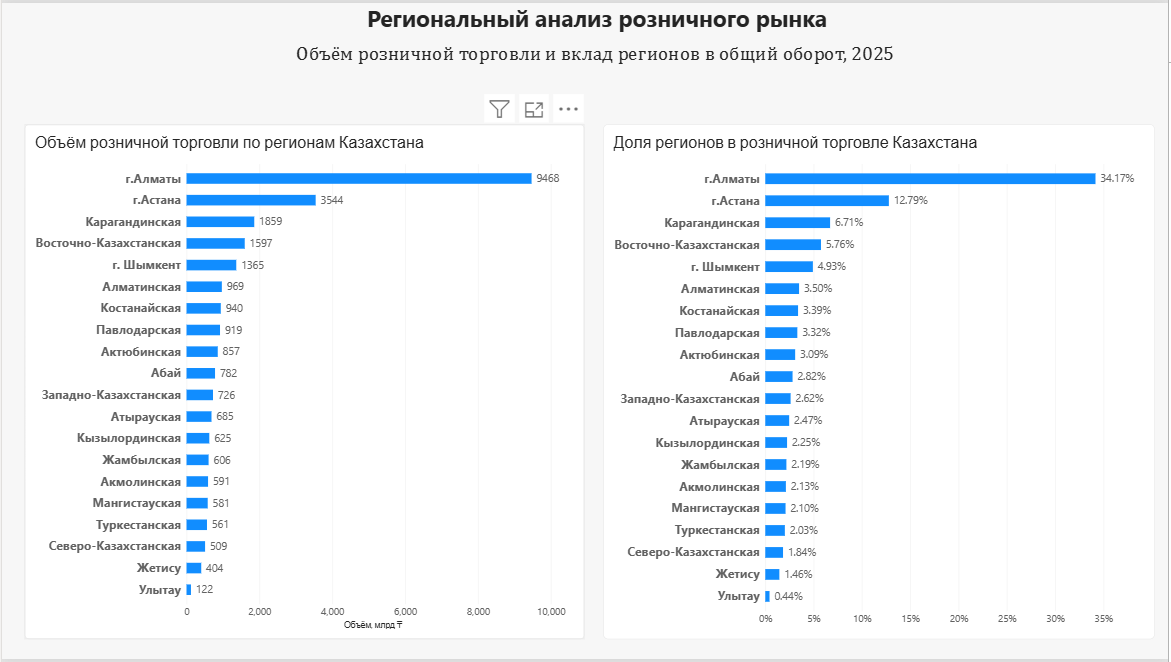

What the dashboard file says about the page in this screenshot:
{"tool":"powerbi","page":{"name":"Региональный анализ","canvas":[1920,1080],"ordinal":1},"visuals":[{"type":"clusteredBarChart","title":"Объём розничной торговли по регионам Казахстана","fields":{"Category":["Розничная торговля по регионам.Регион"],"Y":["Розничная торговля по регионам.Объём, млрд ₸"]},"box":[37,199.7,922.1,848],"z":0},{"type":"clusteredBarChart","title":"Доля регионов в розничной торговле Казахстана","fields":{"Category":["Розничная торговля по регионам.Регион"],"Y":["Розничная торговля по регионам.Доля региона"]},"box":[990.1,199.7,907.7,848],"z":1000},{"type":"textbox","box":[601,0,786.3,70],"z":1001},{"type":"textbox","box":[483.7,63.8,1000.3,47.3],"z":1002}]}

Visuals, with their boxes in screenshot pixels (x1, y1, x2, y2), scaled from the page's 1920x1080 canvas onto the 1171x662 screenshot:
"Объём розничной торговли по регионам Казахстана" clusteredBarChart: rect(23, 122, 585, 642)
"Доля регионов в розничной торговле Казахстана" clusteredBarChart: rect(604, 122, 1157, 642)
textbox: rect(367, 0, 846, 43)
textbox: rect(295, 39, 905, 68)
